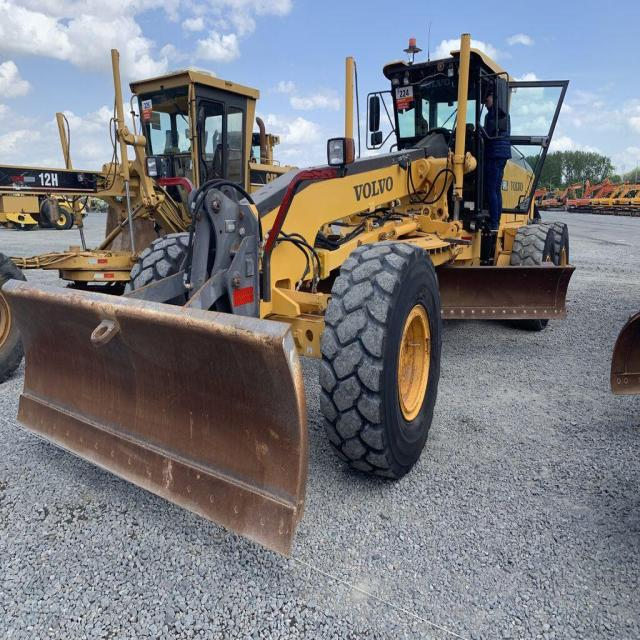buldozerpayloadergrader: (28, 26, 600, 555)
